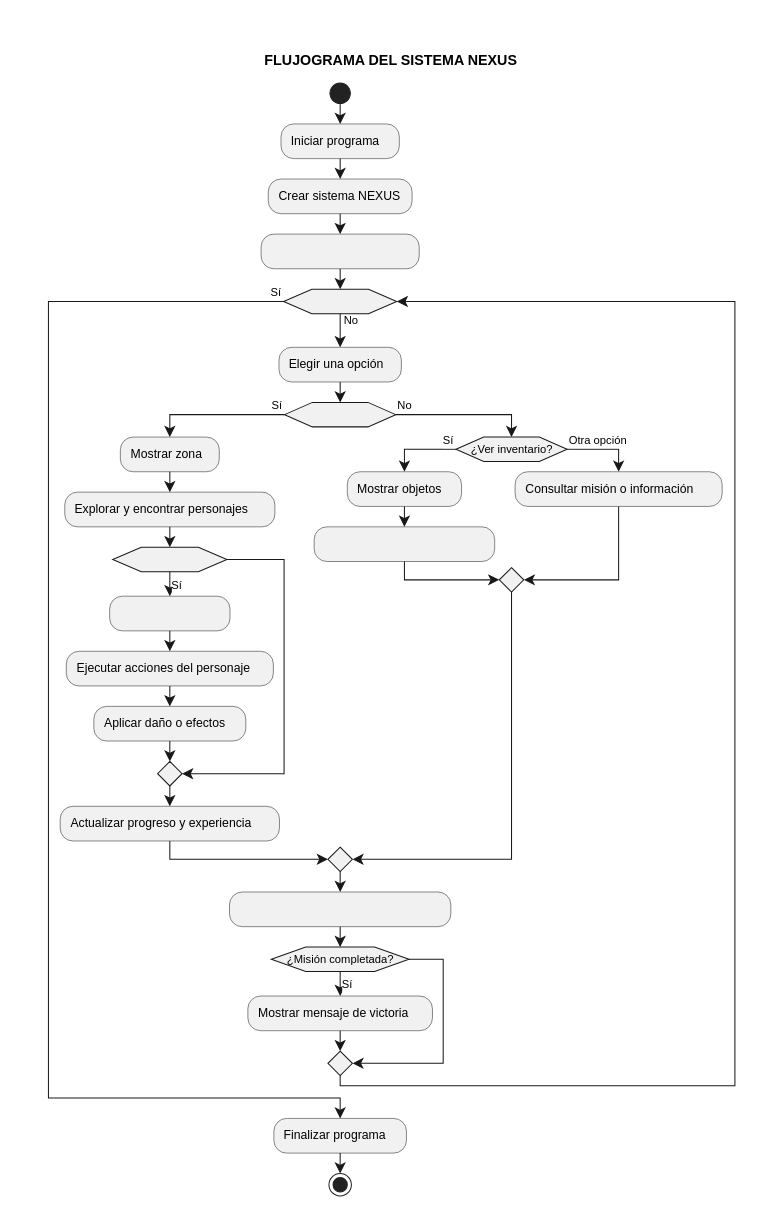
This 763x1214 diagram has some shape labels left out. The shapes that lost their labels are listed below. From the top down, each one's centre as x and y in pixels, then its label:
point (339, 251): Mostrar menú principal
point (340, 301): ¿Salir del juego?
point (340, 414): ¿Explorar zona?
point (169, 559): ¿Hay encuentro?
point (403, 543): Usar objeto si corresponde
point (169, 613): Iniciar encuentro
point (340, 908): Comprobar objetivos de la misión
